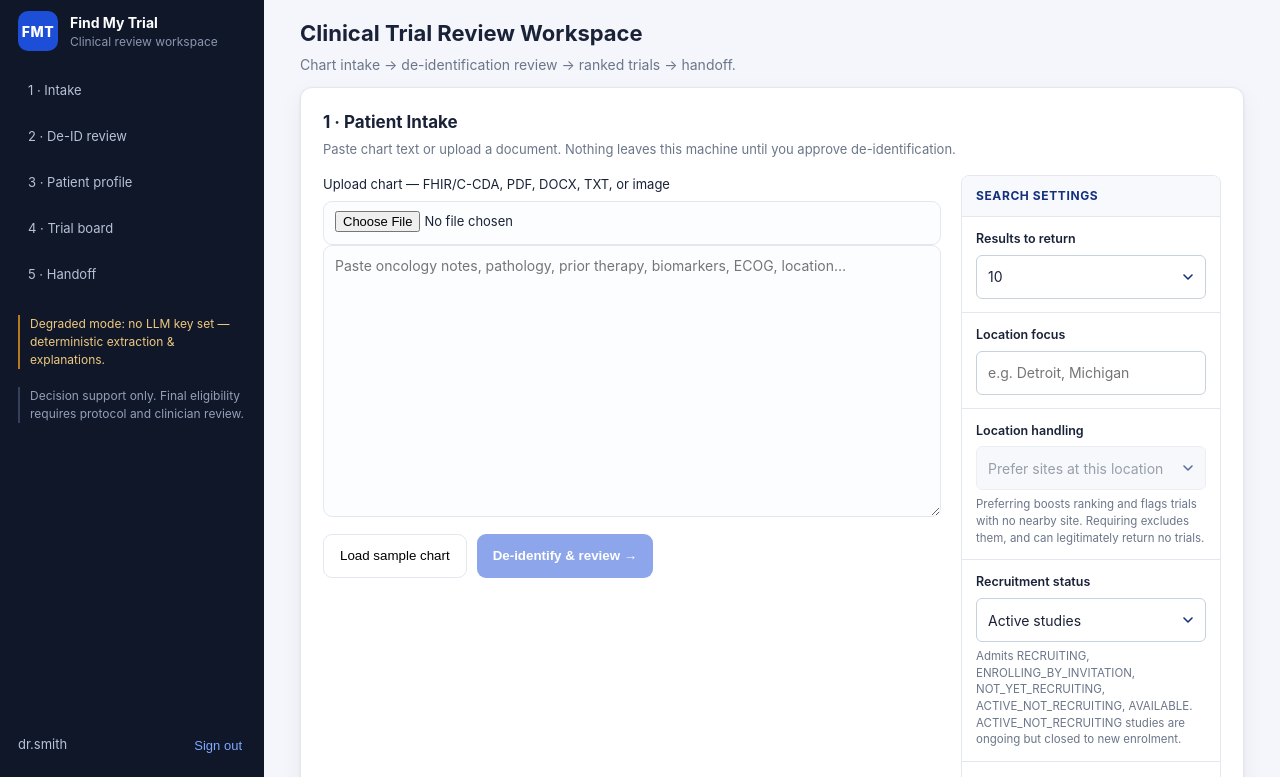
Scenario: de-identification approval gate › confirms approval visibly once granted
The width and height of the screenshot is (1280, 777).
Expected: the heading "Clinical Trial Review Workspace" is shown, [300,20,643,46]
Replace the text in the text box named "chart text" with "chart". click: coordinates (632, 380)
box: [323,244,941,516]
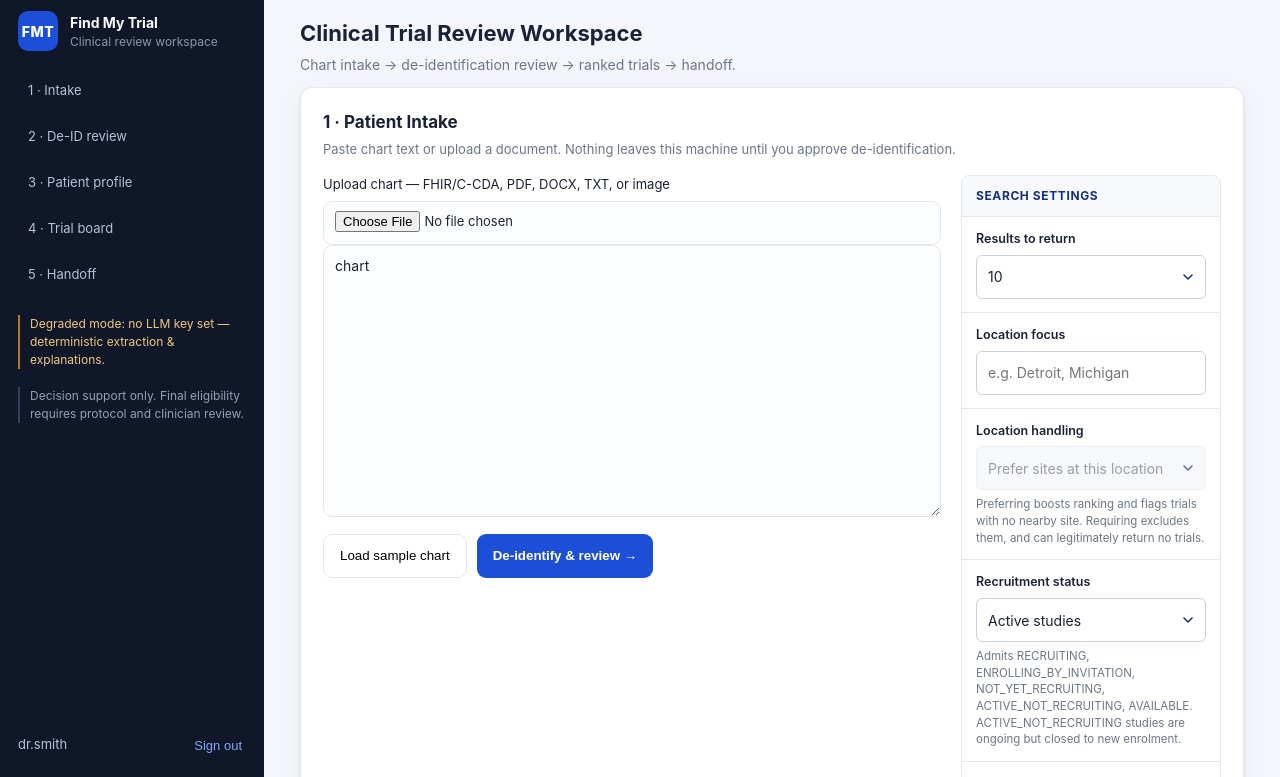
Click the button "De-identify & review →". click: coordinates (565, 556)
box: [477,534,653,578]
(page scrolled)
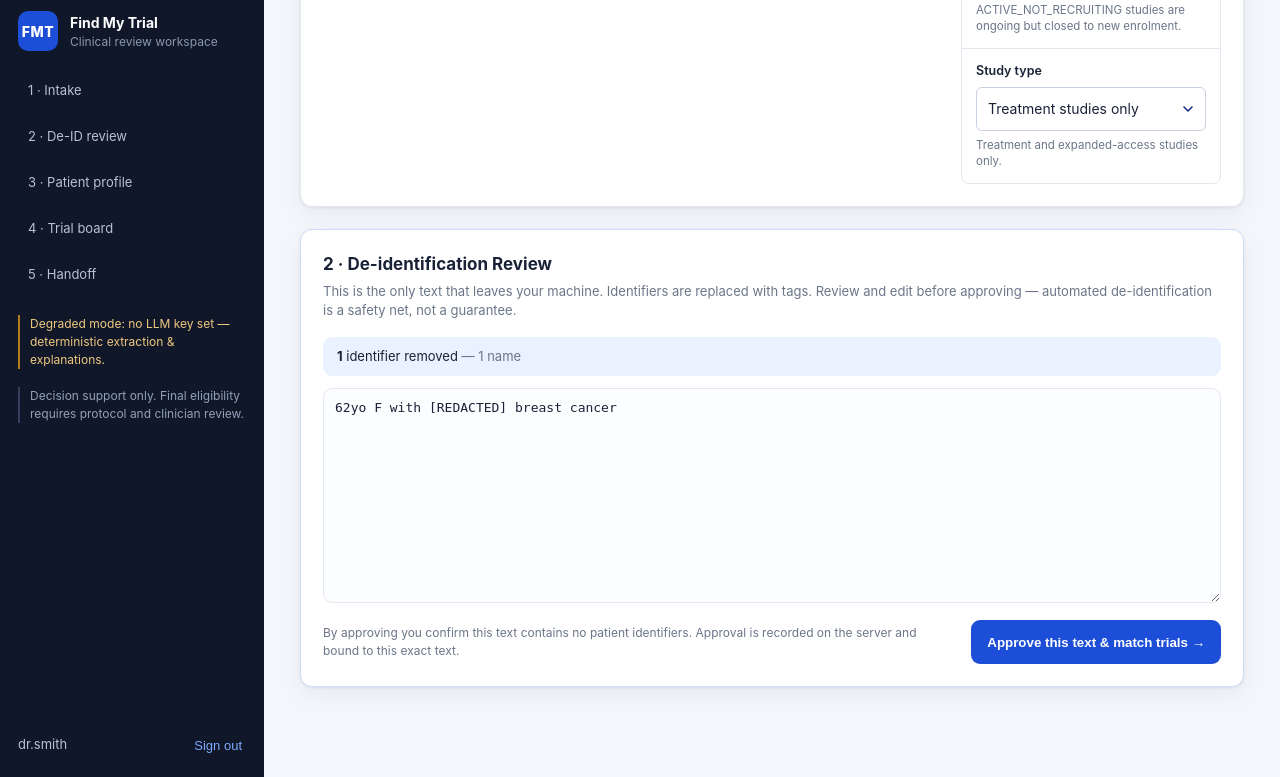
Click the button "Approve this text & match trials →". click: coordinates (1096, 642)
box: [971,620,1221,664]
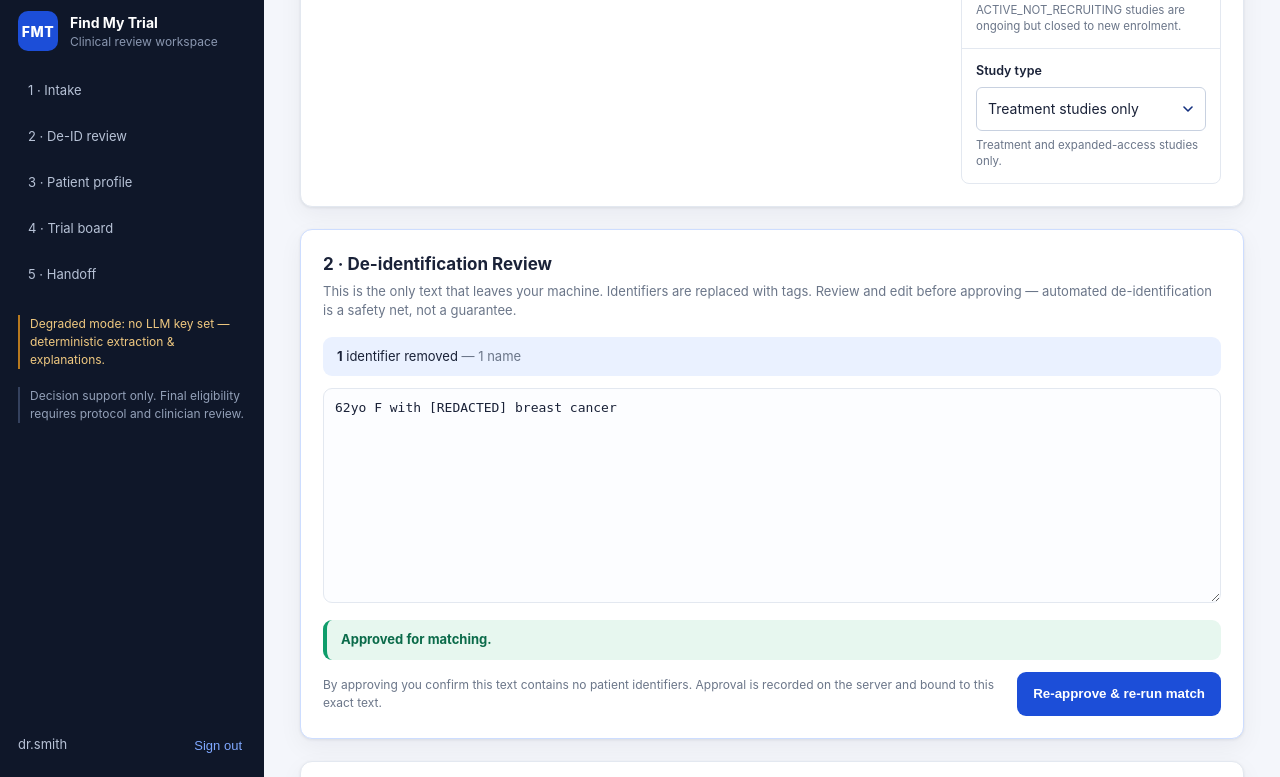
Expected: the text "Approved for matching." is shown, [341,631,492,647]
